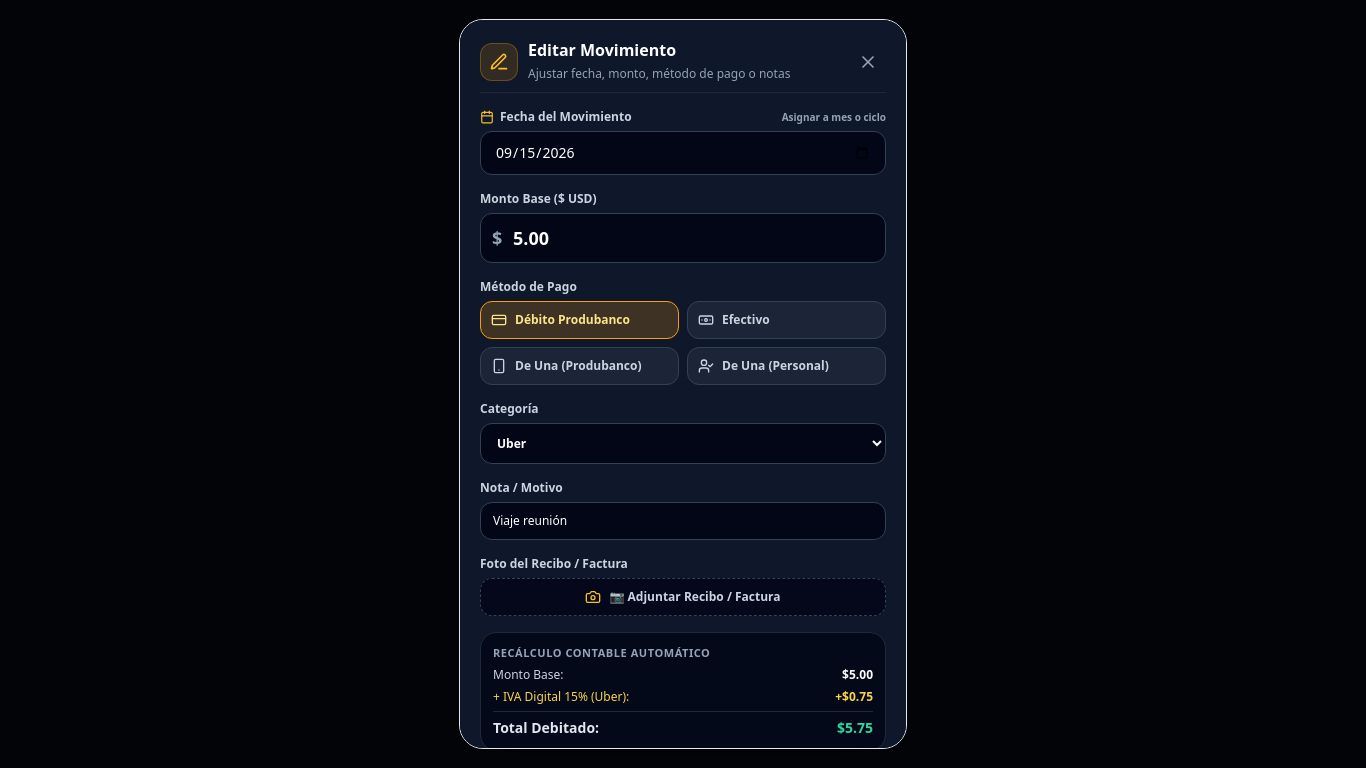
Test: EditTransactionModal › recalculates 15% digital IVA automatically when modifying base amount for Uber with card
Step 1. Replace the text in the number field labelled "Monto Base" with "10.00" → coordinates (683, 238), box [480,213,886,263]
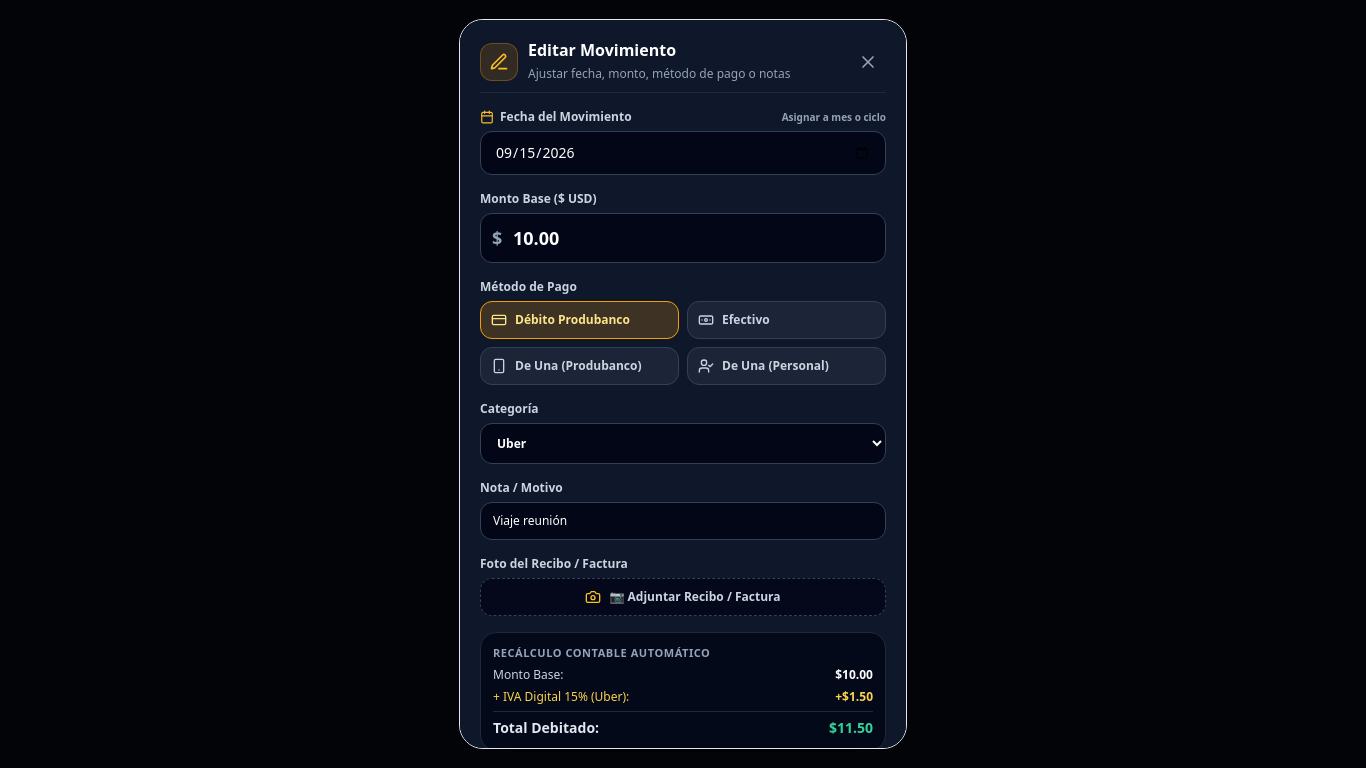
Expected: the text "+$1.50" is shown, [835,689,873,705]
Expected: the text "$11.50" is shown, [829,718,873,738]
